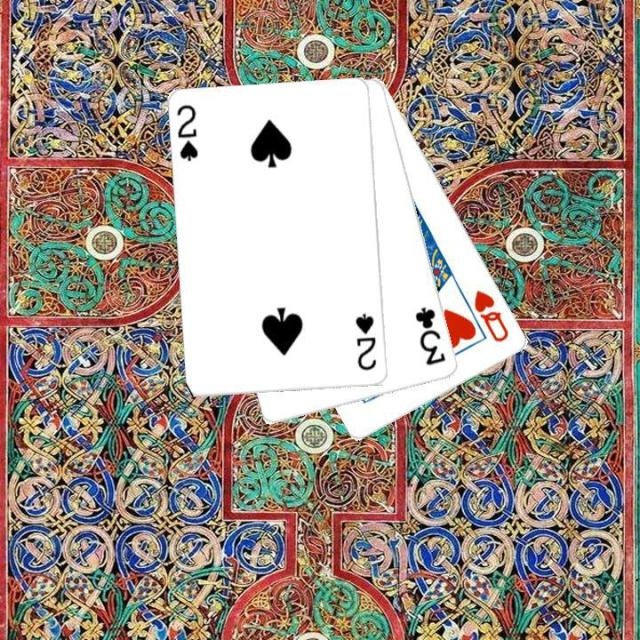2S: (173, 100, 200, 163), (352, 310, 379, 372)
3C: (412, 303, 448, 368)
QH: (470, 286, 511, 345)
